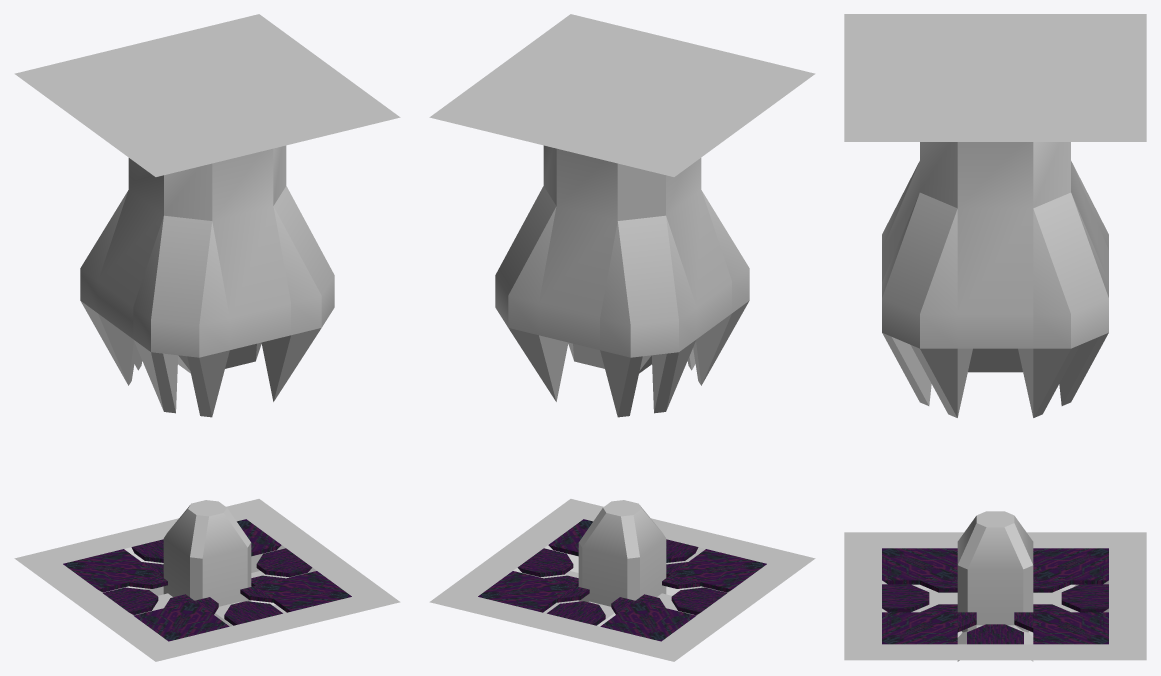
The model's file is cbhang03.FBX.
The picture shows the model from 3 angles, left to right: view 1: azimuth 30°, elevation 25°; view 2: azimuth 150°, elevation 25°; view 3: azimuth 270°, elevation 25°; orthographic projection. The views are drawn at different scales.
Parts seen in each view (by area): view 1: tower6, tower2, tower3, terrain, glass1, tower1, nodule1; view 2: tower6, tower2, tower3, terrain, glass1, tower1, nodule1; view 3: tower6, tower2, tower3, terrain, glass1, tower1, nodule1.
Boxes of the visible parts, x1,y1,x2,y2 form: tower6: (14,14,400,176); tower2: (98,70,290,411); tower3: (80,186,334,417); terrain: (14,499,400,661); glass1: (63,519,351,641); tower1: (163,500,251,606); nodule1: (136,342,288,626); tower6: (429,14,815,176); tower2: (539,69,731,411); tower3: (495,186,749,417); terrain: (429,499,815,661); glass1: (478,519,766,641); tower1: (578,500,666,606); nodule1: (541,342,693,626); tower6: (844,14,1146,141); tower2: (882,54,1108,417); tower3: (882,163,1108,417); terrain: (844,532,1146,660); glass1: (882,548,1108,644); tower1: (957,511,1033,632); nodule1: (911,348,1079,661).
Bounding box in the file's own units: 64 × 127 × 64.
